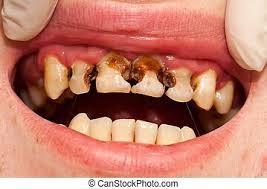decay: (95, 53, 132, 94), (133, 53, 165, 98), (165, 60, 193, 102), (70, 62, 93, 95)
normal: (112, 118, 135, 141), (136, 120, 158, 144), (68, 113, 91, 135), (90, 118, 111, 141), (157, 124, 180, 144), (30, 86, 42, 104), (181, 125, 195, 140)
yellow: (45, 56, 68, 100), (194, 67, 215, 111), (217, 77, 233, 114)
